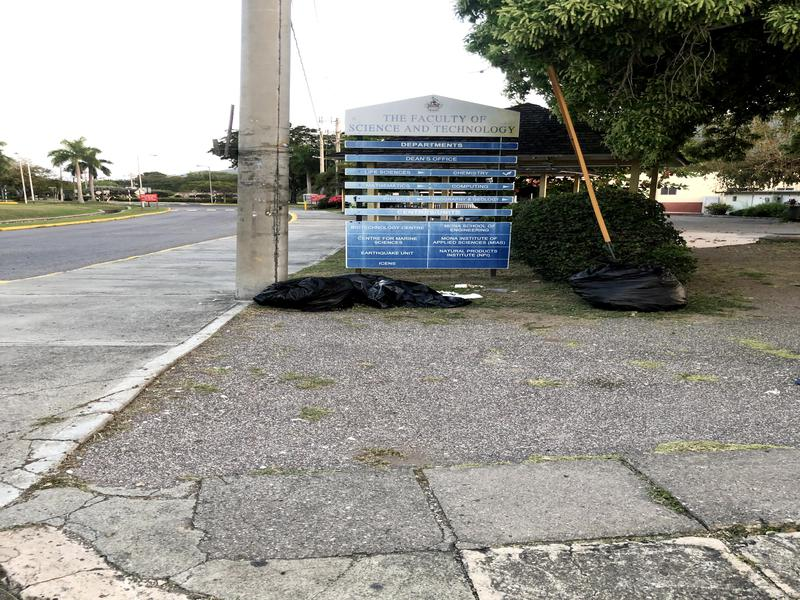18.0055634_-76.7484079_scitechsign: (310, 65, 524, 279)
